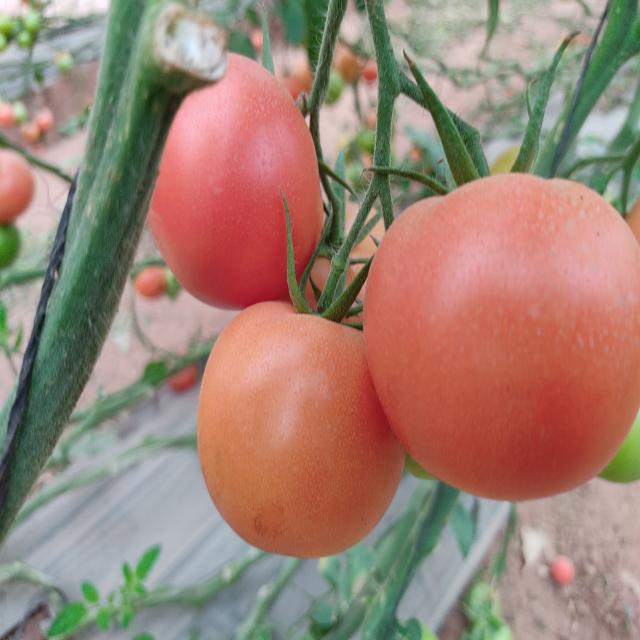Ripe Tomato: (363, 173, 640, 499), (200, 298, 410, 556), (148, 55, 326, 312)
